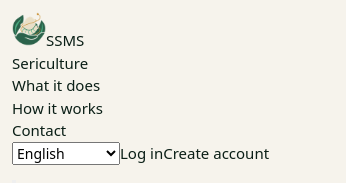
Test: Nav › switches language and updates the page language
Select "Français" in the dropdown named "Language" at (66, 153), box x1=12 y1=142 x2=120 y2=164
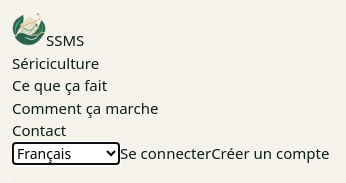
Now the link "Se connecter" is shown, box x1=120 y1=142 x2=211 y2=162
